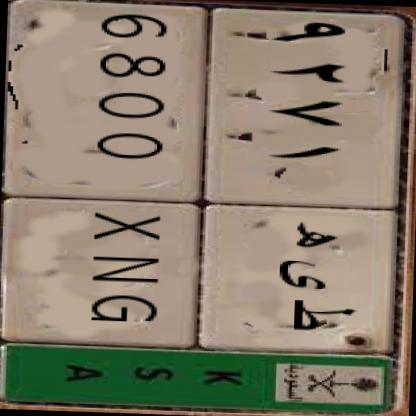english: (1, 1, 214, 355)
